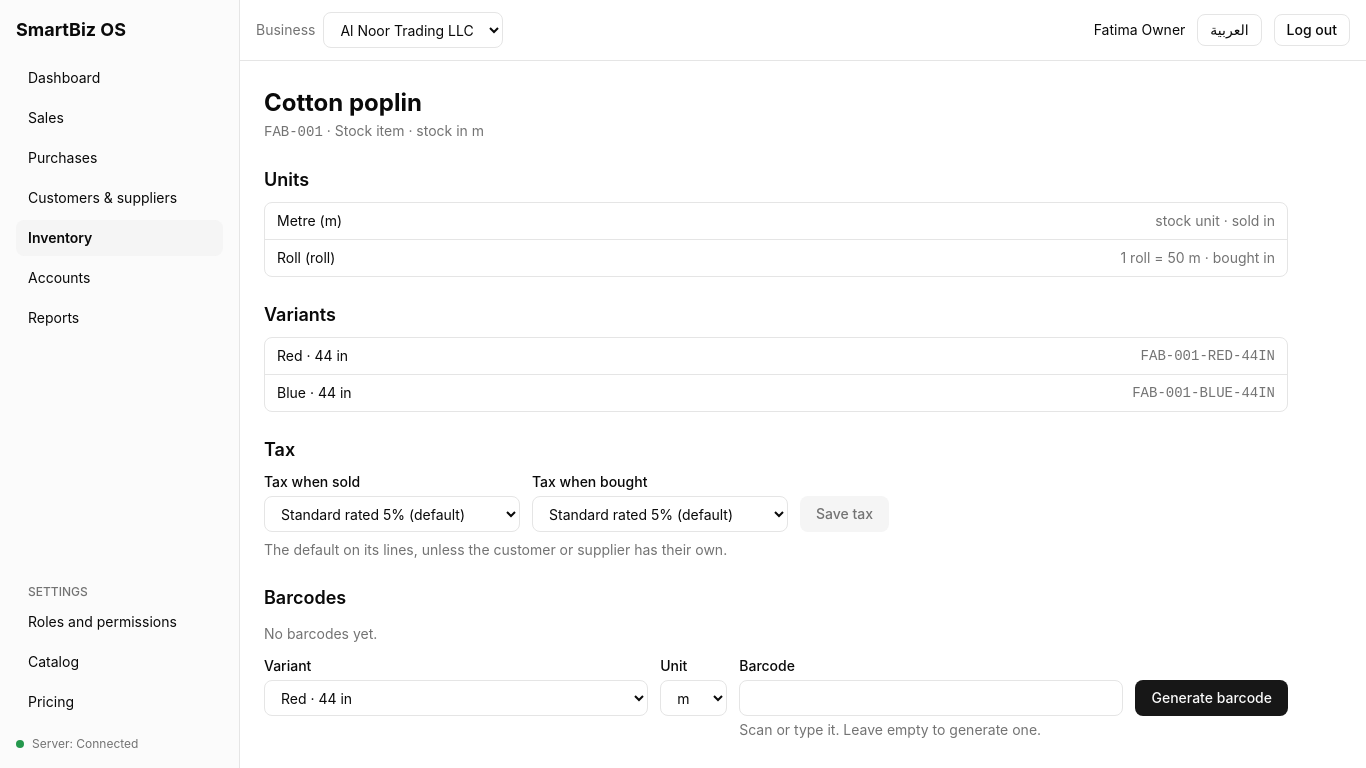
it: Catalog screens › shows a translated error when the barcode is taken
Type "4006381333931" into the field labelled "Barcode".
click(931, 698); type("4006381333931")  # box [739,680,1123,716]
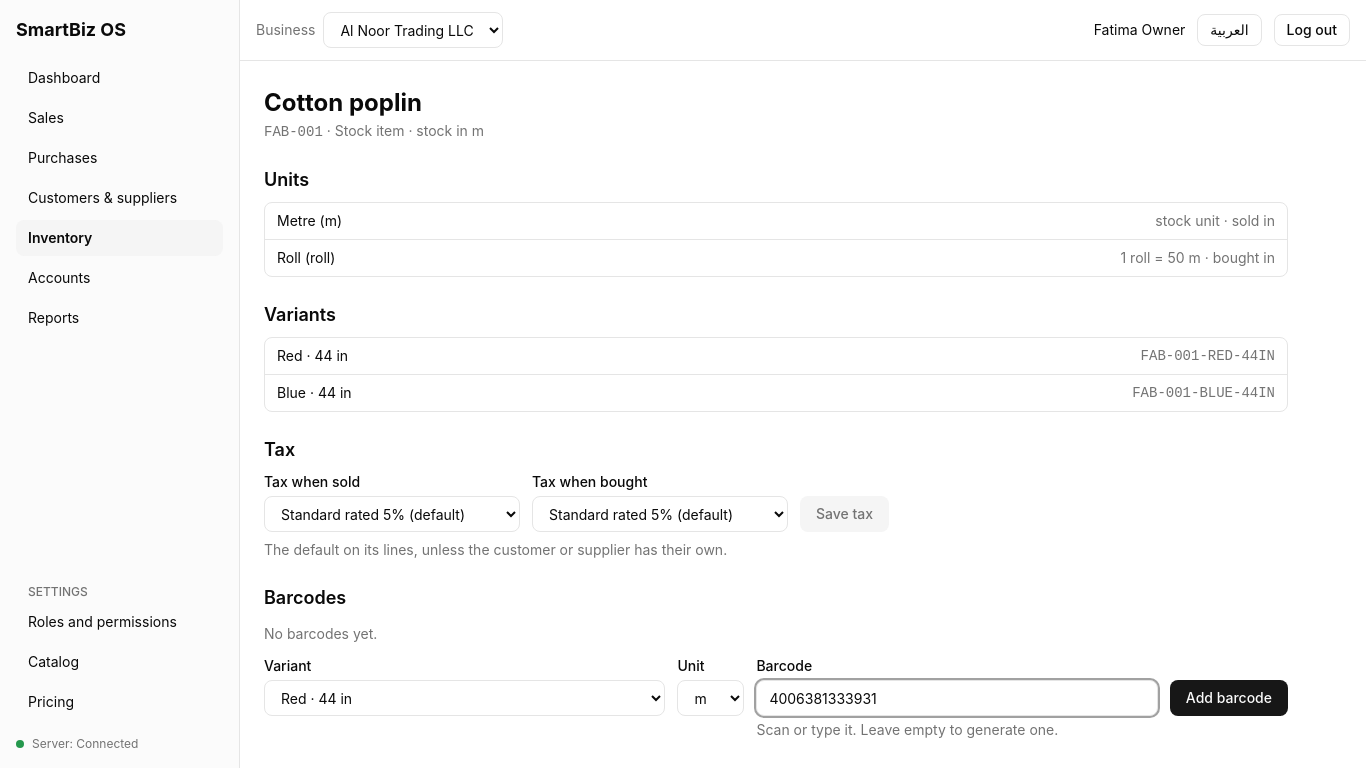
Click the button "Add barcode".
click(1229, 698)  # box [1170,680,1288,716]
(page scrolled)
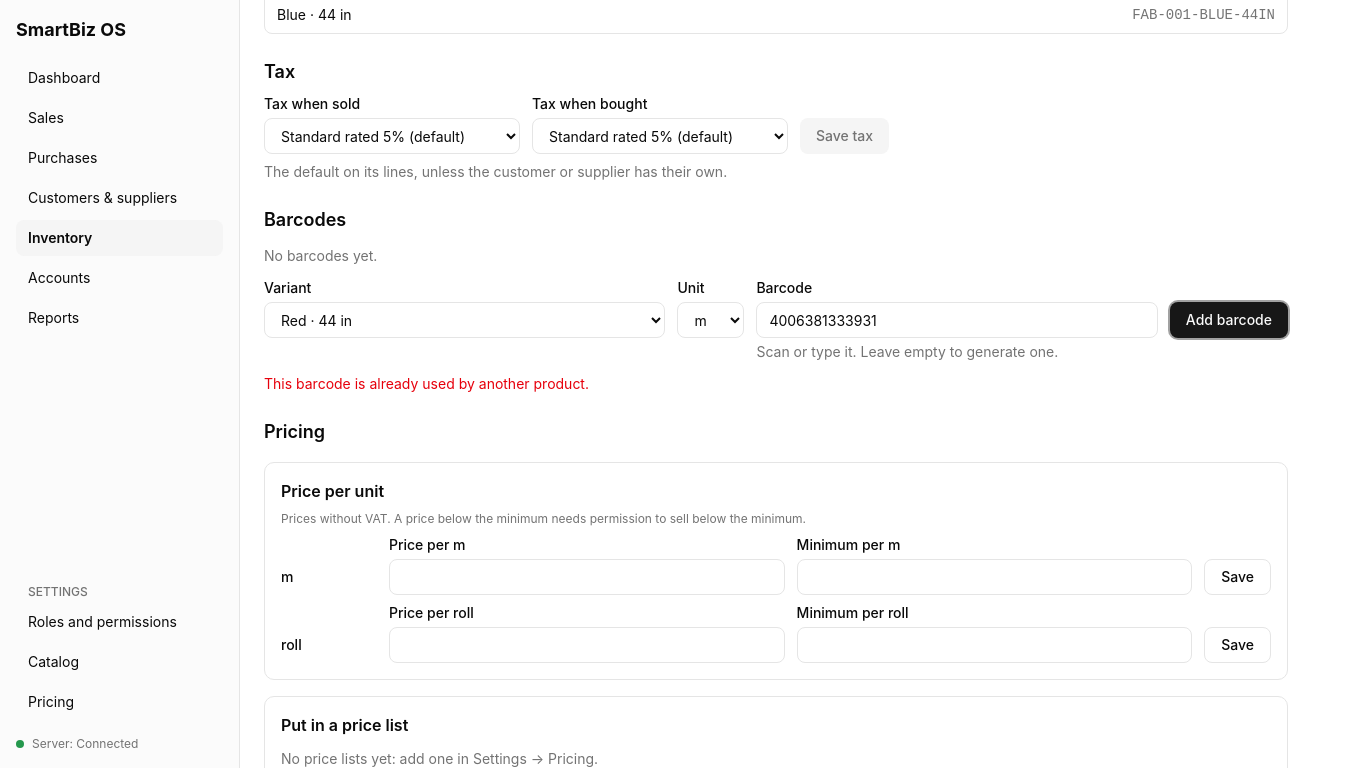
expect the message reads "This barcode is already used by another product.": met, box [264,375,589,392]
